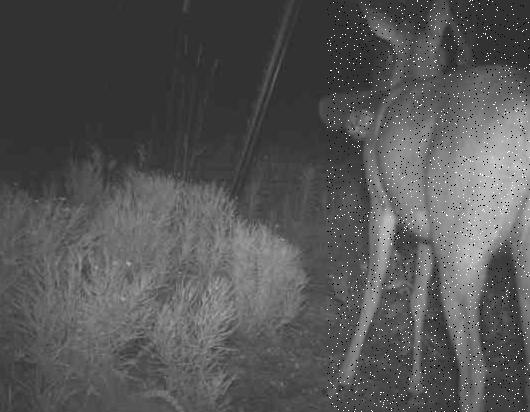Deer: (327, 0, 530, 412)
